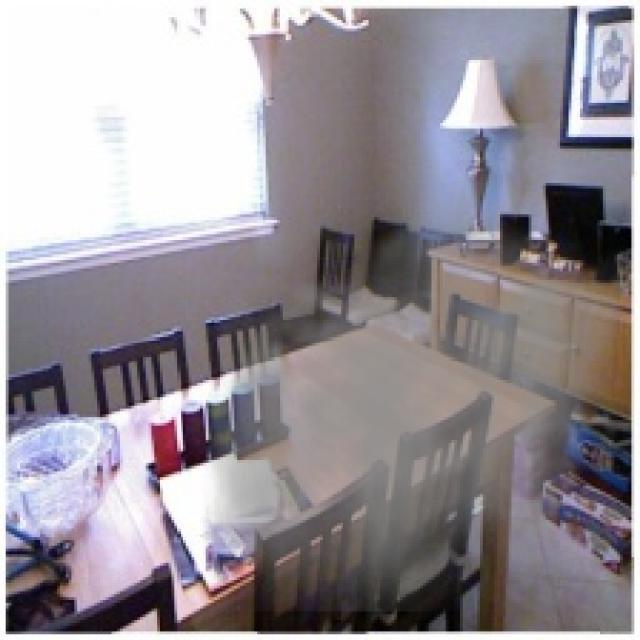Smoke: (203, 186, 623, 612)
